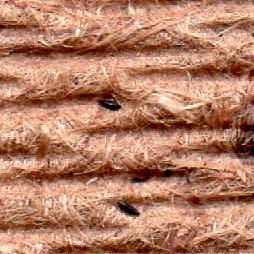egg: (98, 93, 120, 109), (117, 201, 139, 214)
